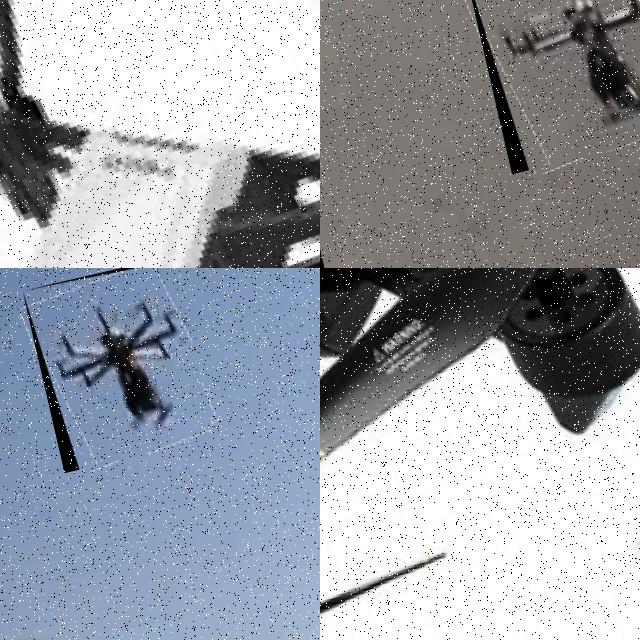drone: (320, 268, 640, 624), (0, 0, 320, 268), (22, 268, 214, 472), (463, 0, 640, 174)
